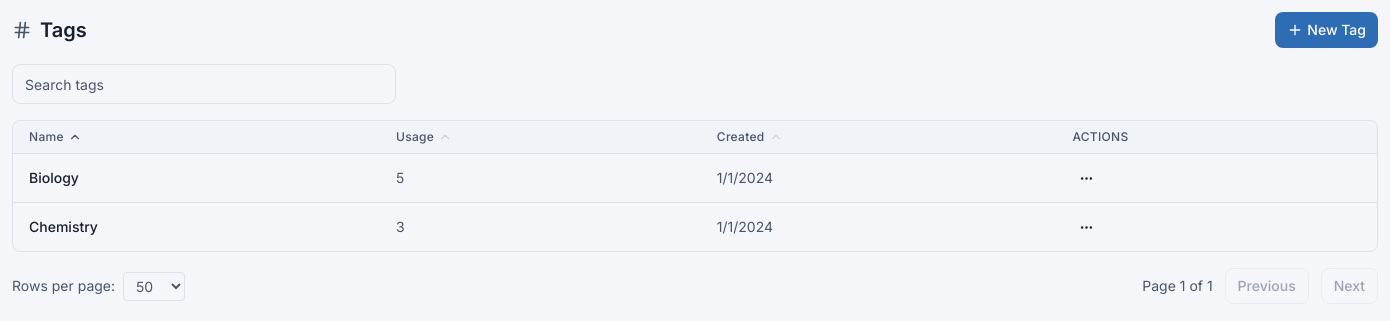
Test case: TagsPage › filters tags by search term case-insensitively without re-fetching
Expected: the text "Biology" is shown, [13,154,380,202]
Type lowercase — should match "Biology" case-insensitively
Type "bio" into the field. click: (204, 84)
box: [12,64,396,104]
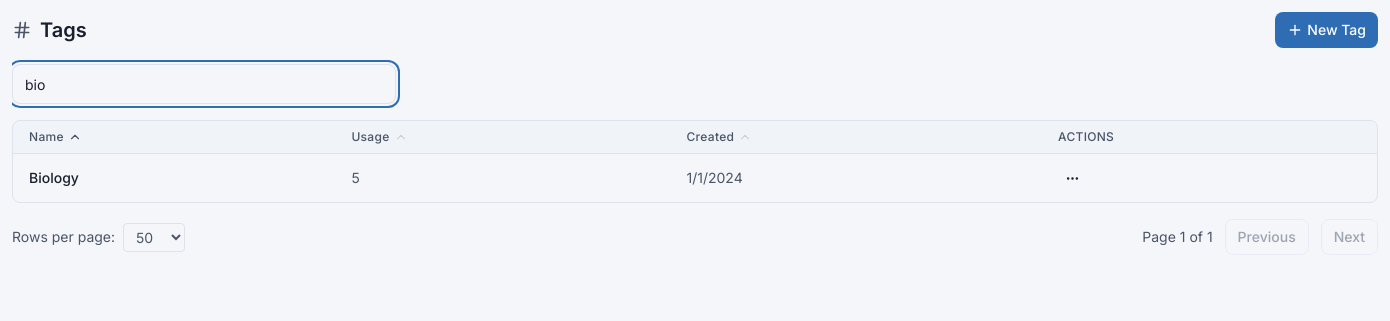
Expected: the text "Biology" is shown, [13,154,335,202]
Result: the text "Chemistry" is gone
